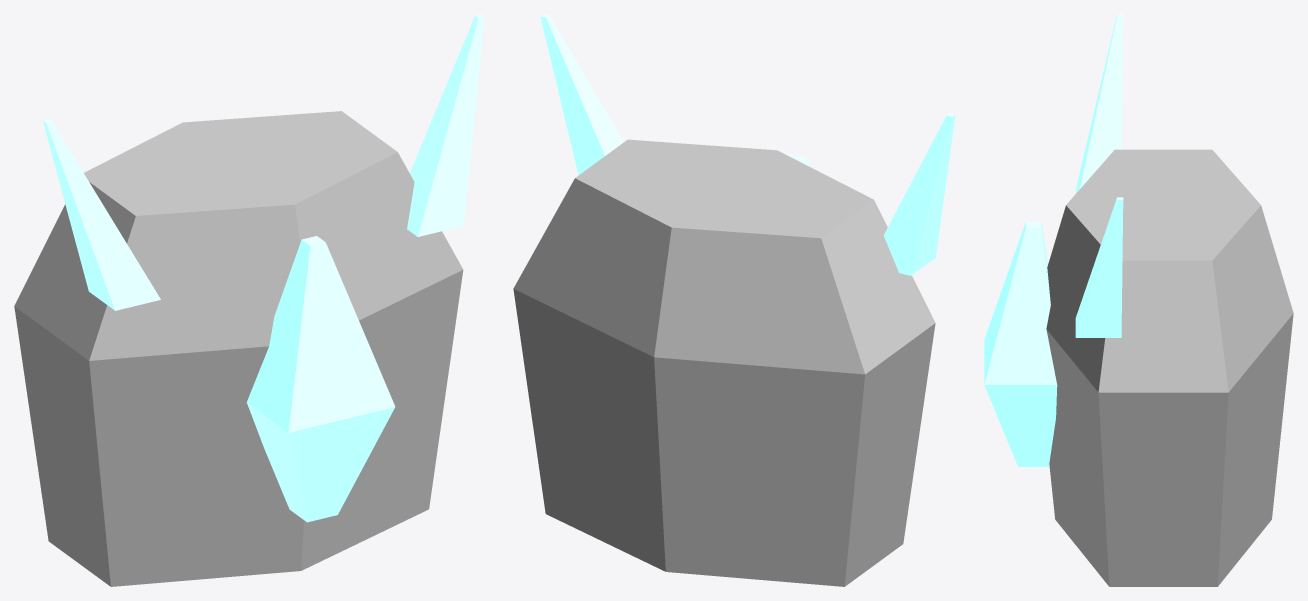
File: legendary_glacier_heart.glb
The picture shows the model from 3 angles, left to right: view 1: azimuth 30°, elevation 25°; view 2: azimuth 150°, elevation 25°; view 3: azimuth 270°, elevation 25°; orthographic projection. The views are drawn at different scales.
Visible parts, largest first — view 1: legendary_glacier_heart; view 2: legendary_glacier_heart; view 3: legendary_glacier_heart.
Part boxes in pixels (x1,y1,x2,y2): legendary_glacier_heart: [14, 14, 484, 586]; legendary_glacier_heart: [513, 14, 955, 586]; legendary_glacier_heart: [984, 14, 1293, 586].
Size of the model in its own units: 0.4057 by 0.42 by 0.2854.
